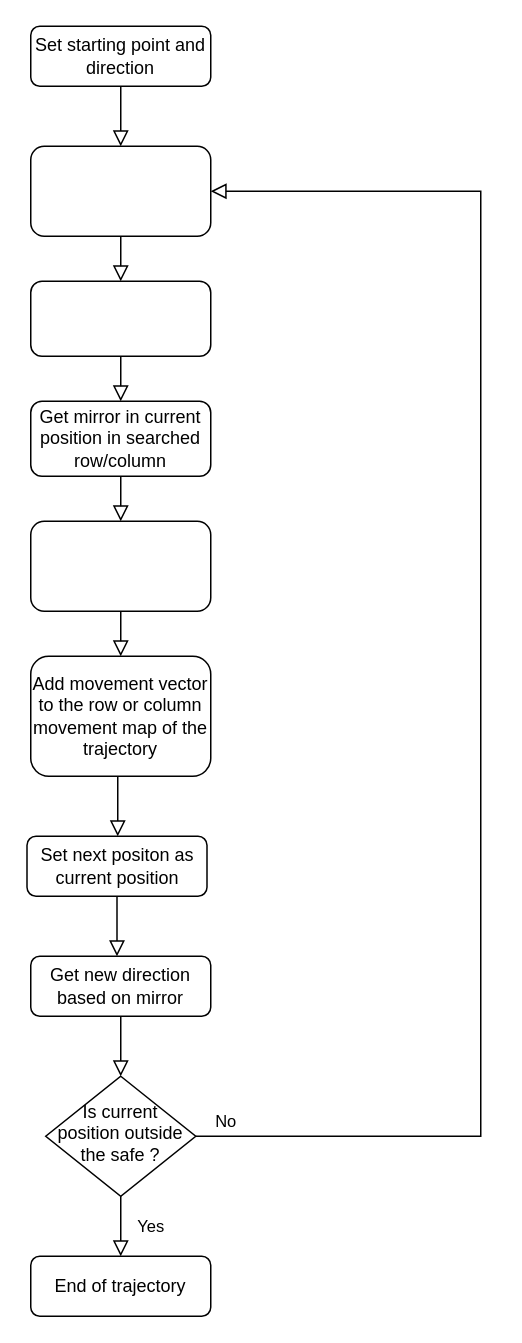
Some shapes in this 522 by 1343 pixel diagram are drawn without their labels. Each missing label, with the centre of its shape:
"Get searched row/column based on position and direction" goes at (120,190).
"Set next position accordingly of the direction" goes at (120,565).
"Set outside cell as next position" goes at (120,318).
